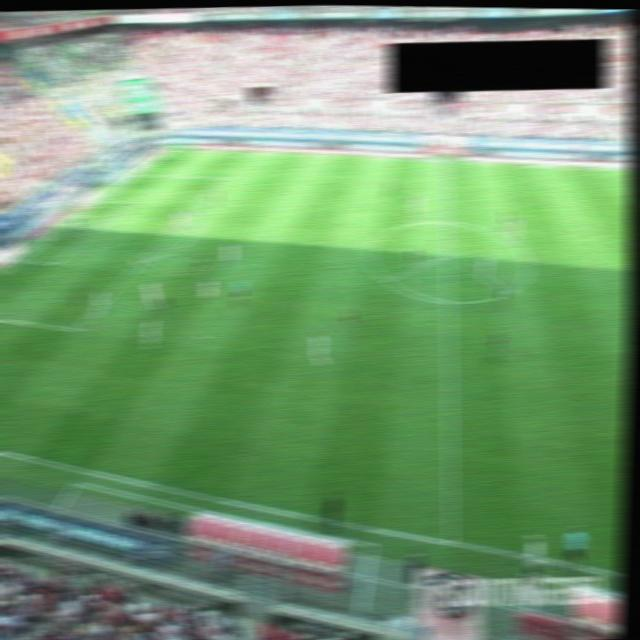bigarea_bottom_inner: (67, 323, 84, 333)
bigarea_top_inner: (213, 172, 230, 182)
bigarea_top_outter: (126, 169, 143, 180)
bottom_arc_area_intersection: (131, 256, 148, 268)
corner: (161, 144, 179, 156)
halfcircle_bottom: (439, 296, 456, 307)
halfcircle_top: (437, 216, 455, 228)
midline_bottom_intersection: (439, 534, 460, 551)
midline_top_intersection: (438, 156, 454, 166)
smallarea_bottom_inner: (45, 258, 63, 269)
smallarea_bottom_outter: (11, 255, 28, 267)
smallarea_top_inner: (121, 196, 137, 208)
smallarea_top_outter: (90, 195, 108, 206)
top_arc_area_intersection: (181, 205, 199, 215)
